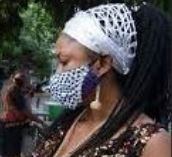with_facemask: (45, 67, 99, 113)
